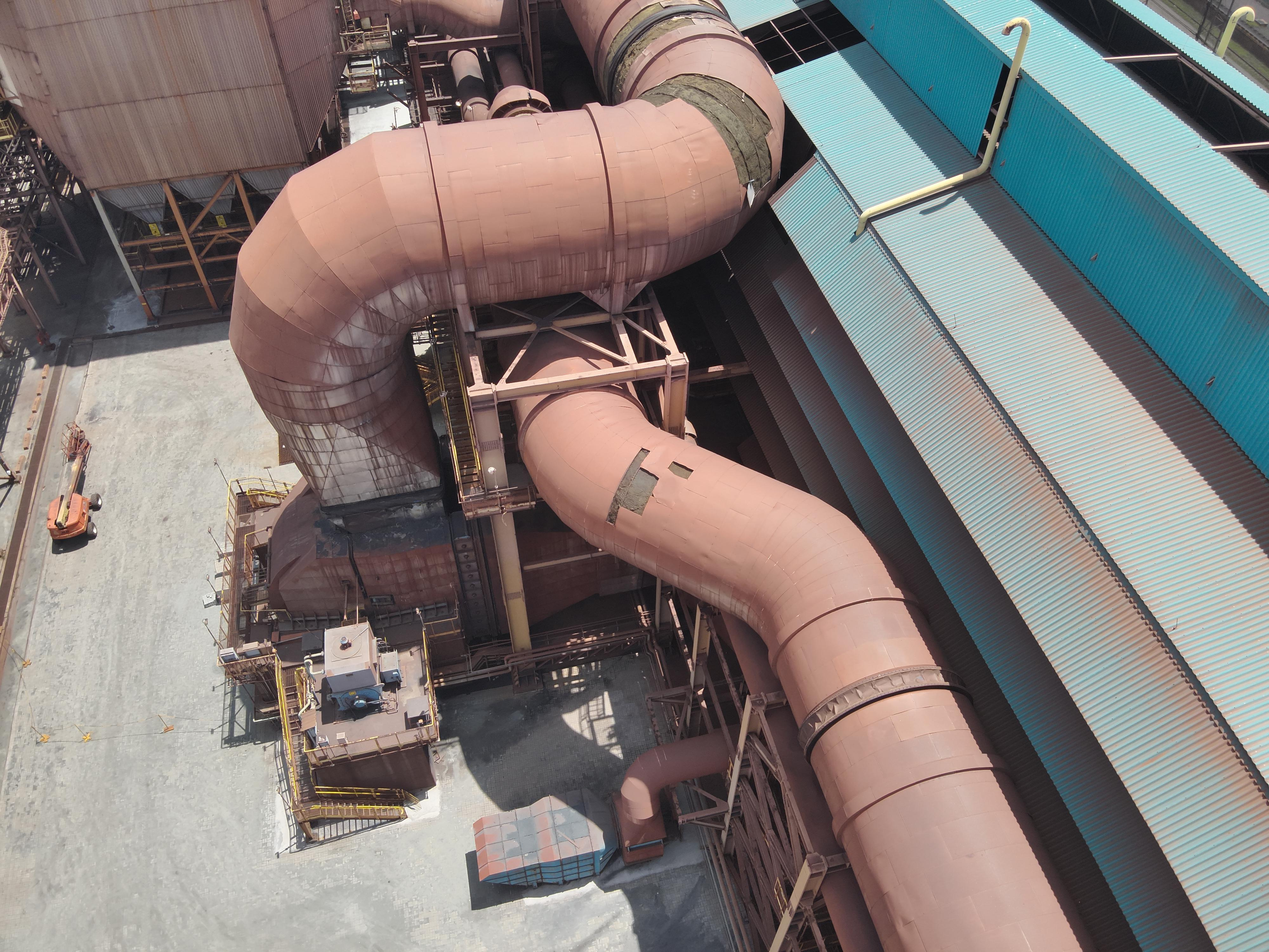Failures: (718, 108, 774, 209), (634, 72, 774, 107), (605, 445, 660, 527), (639, 0, 735, 30), (604, 19, 635, 96), (666, 459, 695, 481)
